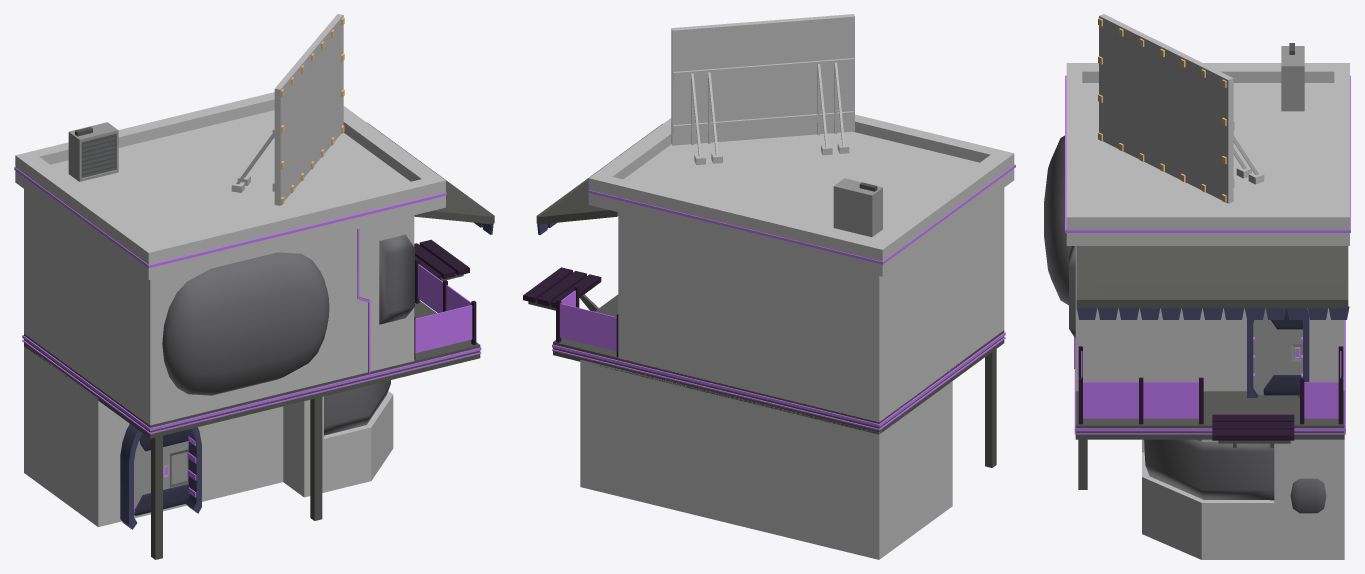
The model's file is Plaza_Bar_01.fbx.
3 views of the same model, side by side, from view 1: azimuth 30°, elevation 25°; view 2: azimuth 150°, elevation 25°; view 3: azimuth 270°, elevation 25° (orthographic). The views are drawn at different scales.
Parts seen in each view (by area): view 1: Plaza_Bar_01; view 2: Plaza_Bar_01; view 3: Plaza_Bar_01.
Boxes of the visible parts, box(x1,y1,x2,y2) form: Plaza_Bar_01: box(14, 14, 494, 559); Plaza_Bar_01: box(523, 14, 1015, 559); Plaza_Bar_01: box(1044, 14, 1350, 559).
Size of the model in its own units: 37.85 by 40.37 by 24.24.
